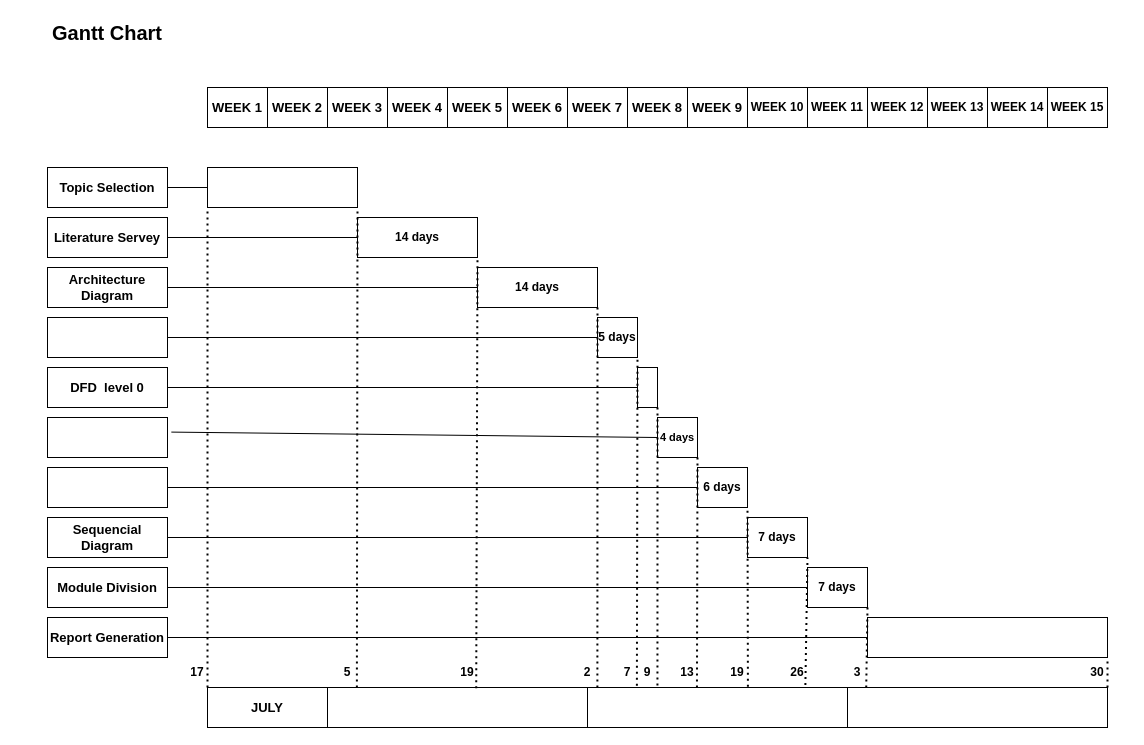
Some shapes in this 1144 by 745 pixel diagram are drawn without their labels. The shapes that lost their labels are listed below. From the top down, each one's centre as x and y in pixels, then its label:
At (282,187): "19 days".
At (107,337): "Usecase Diagram".
At (647,387): "1 day".
At (107,437): "DFD level 1".
At (107,487): "DFD level 2".
At (987,637): "28 days".
At (457,707): "AUGUST".
At (717,707): "SEPTEMBER".
At (977,707): "OCTOBER".
